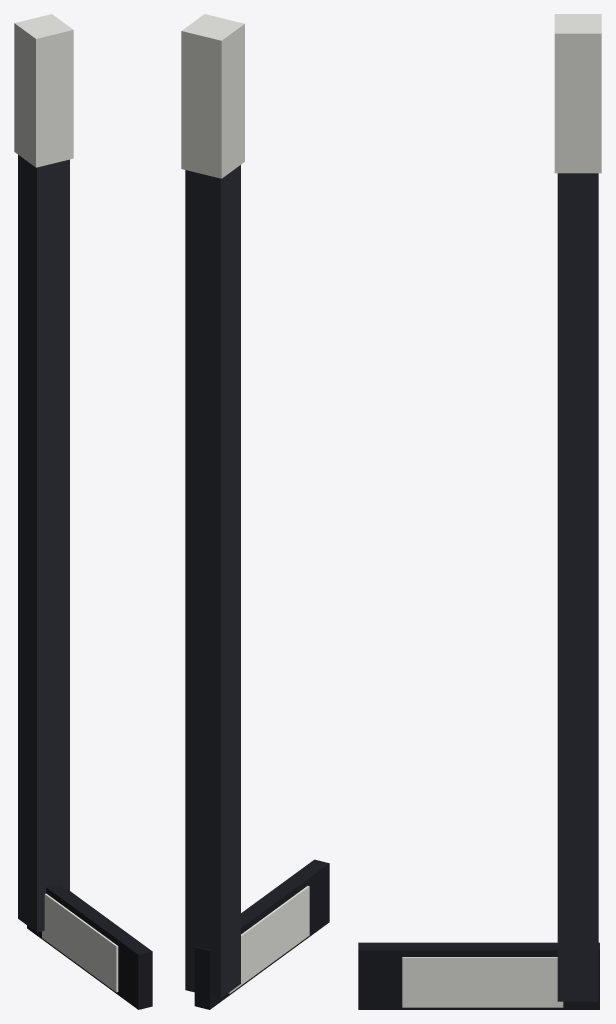
The model's file is stick.glb.
3 renders of one model, left to right at view 1: azimuth 30°, elevation 25°; view 2: azimuth 150°, elevation 25°; view 3: azimuth 270°, elevation 25°, orthographic. The views are drawn at different scales.
Visible parts, largest first — view 1: ice_stick_body; view 2: ice_stick_body; view 3: ice_stick_body.
Part boxes in pixels (x1=…): ice_stick_body: x1=14, y1=14, x2=152, y2=1009; ice_stick_body: x1=181, y1=14, x2=329, y2=1009; ice_stick_body: x1=358, y1=14, x2=601, y2=1009.
Size of the model in its own units: 0.064 by 1.48 by 0.332.
Materials: 1 (1 with a texture image).
